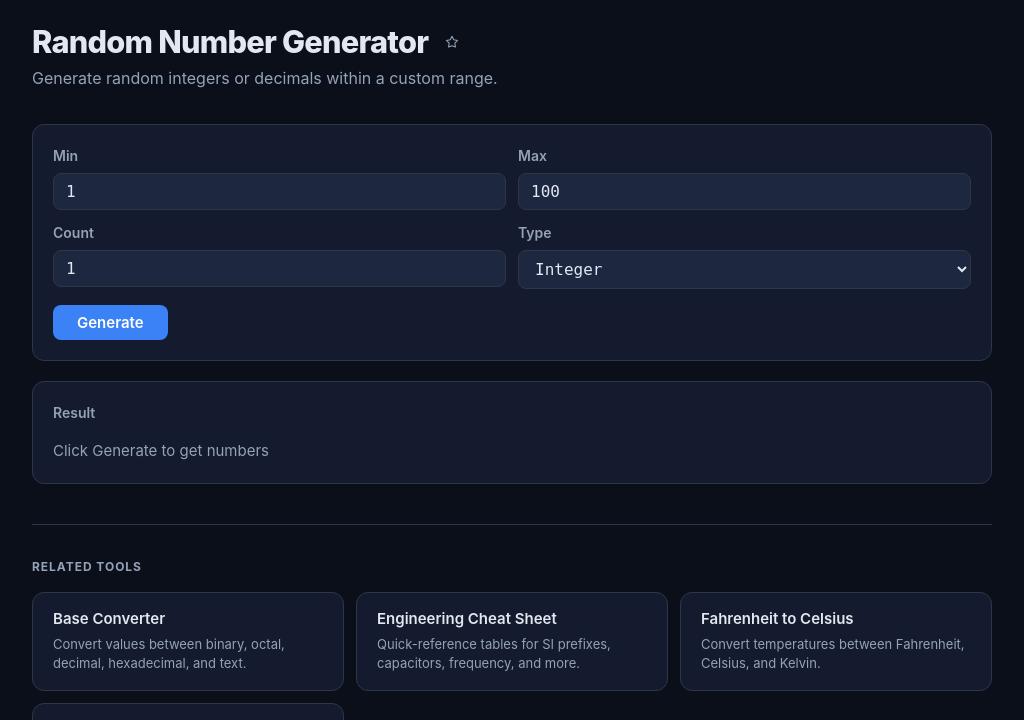
Test: RandomNumber › clicking Generate shows a number in the result
Click the button "Generate": (110, 323) [53, 306, 168, 340]
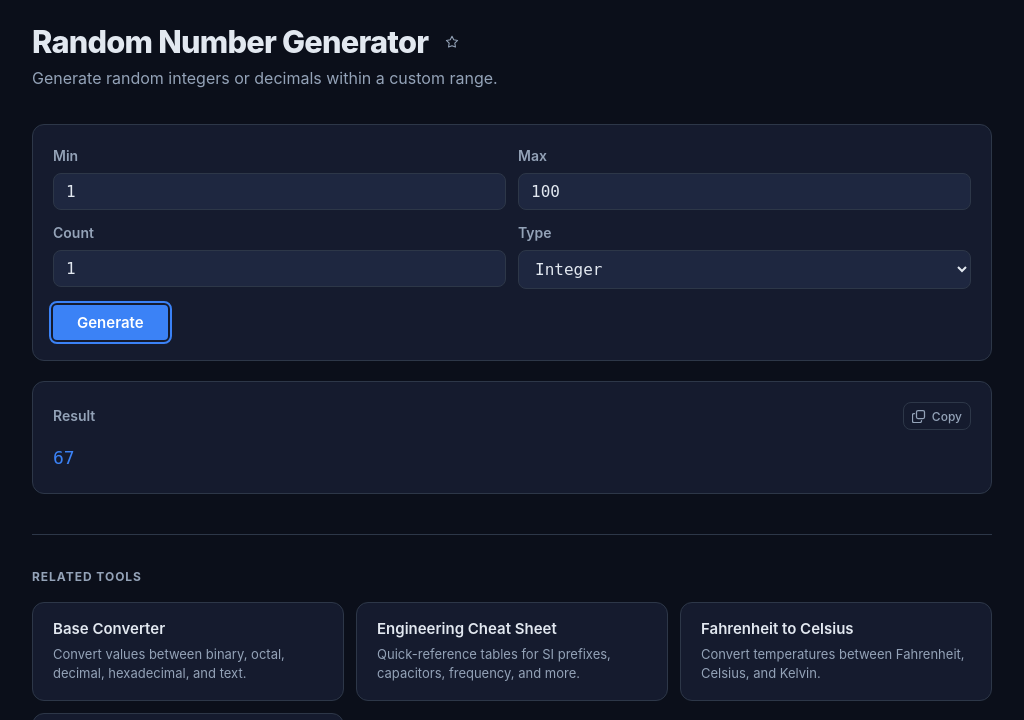
Check: the text "Click Generate to get numbers" is gone
Check: the text "67" is shown, box [53, 448, 75, 468]
